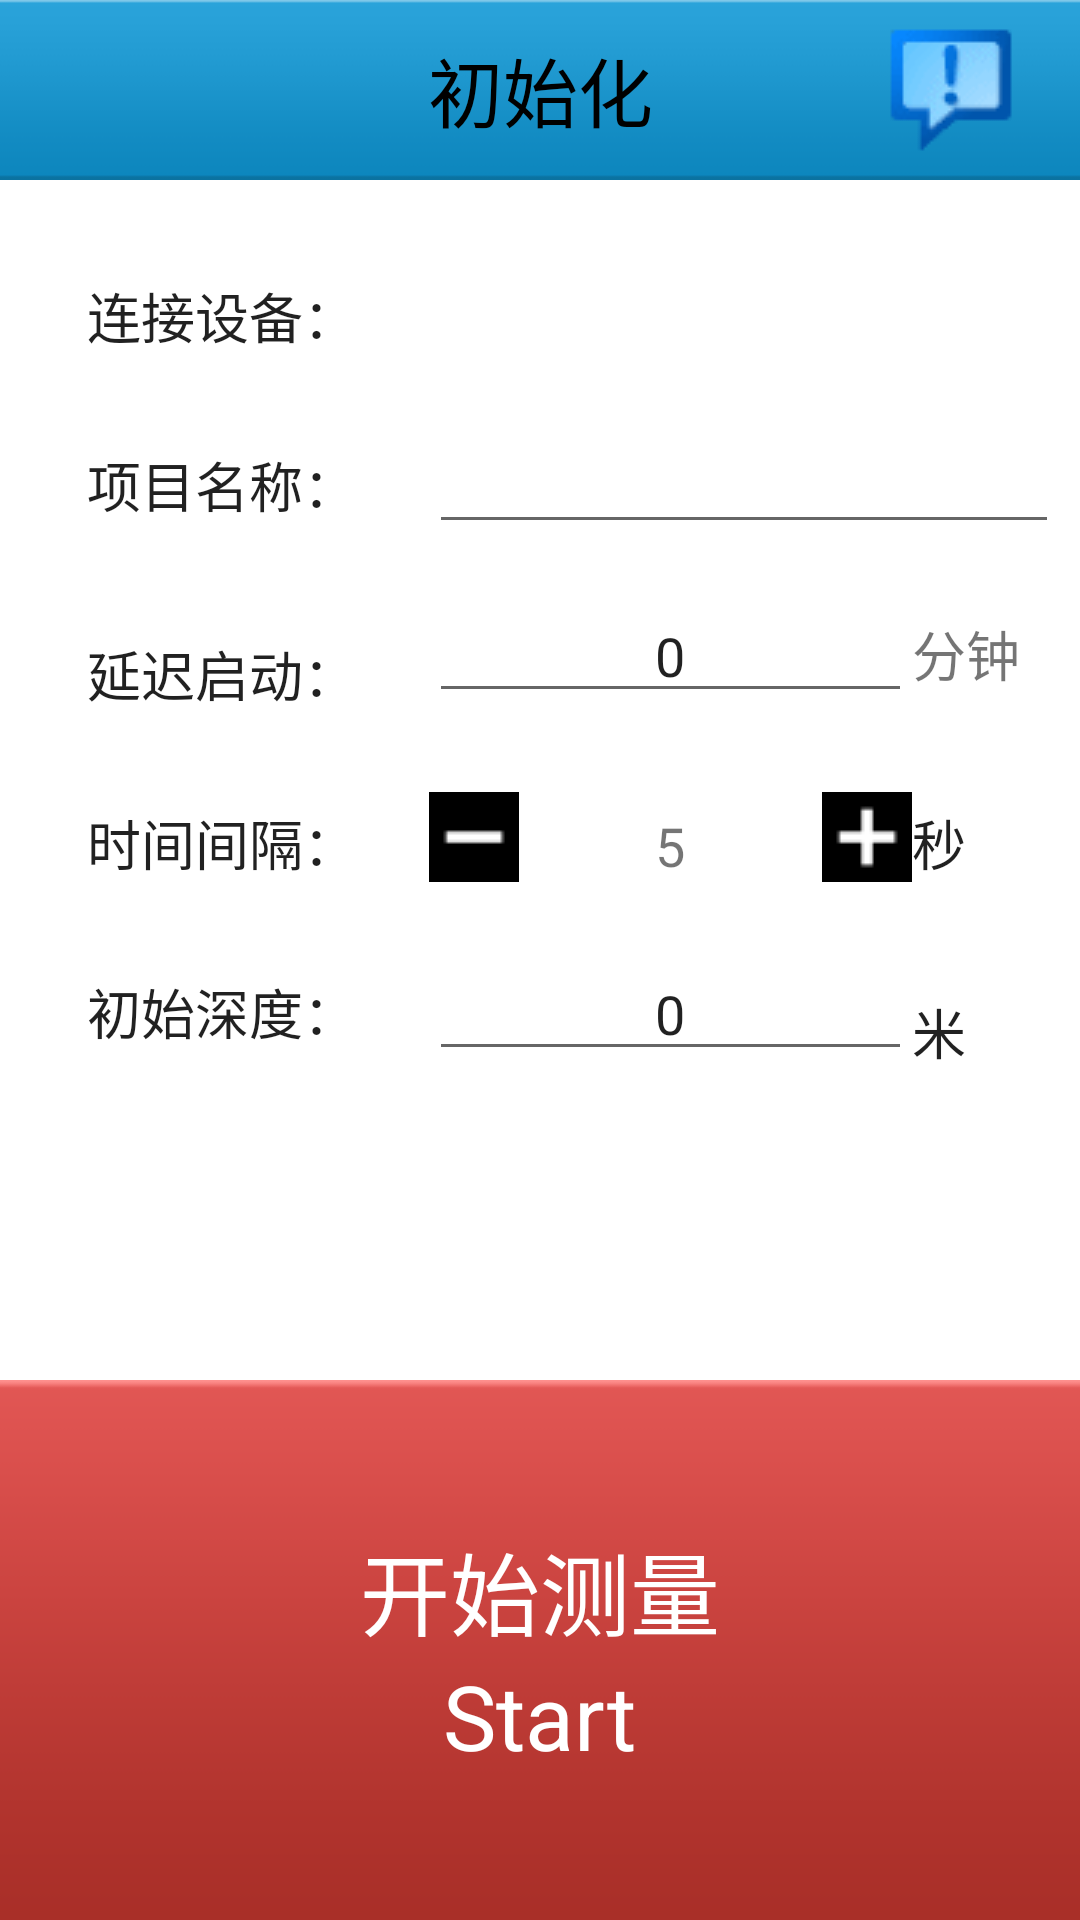

Icons on this 1080 × 1920 Android screen, each with its box as (x1, y1, x2, y2):
interval down: (429, 792, 519, 882)
interval up: (822, 792, 912, 882)
